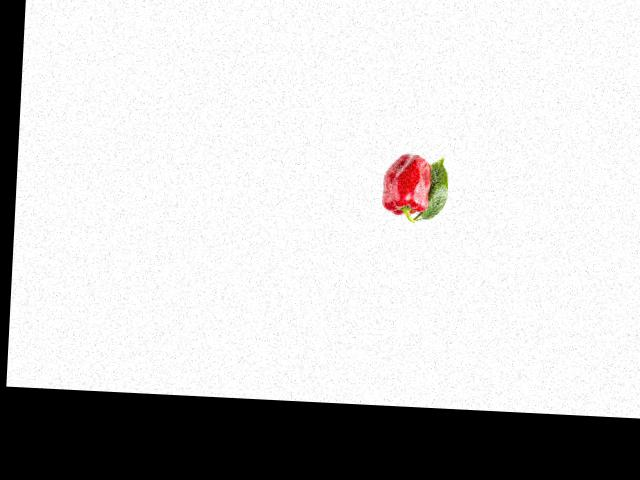bell_pepper: (375, 149, 435, 222)
